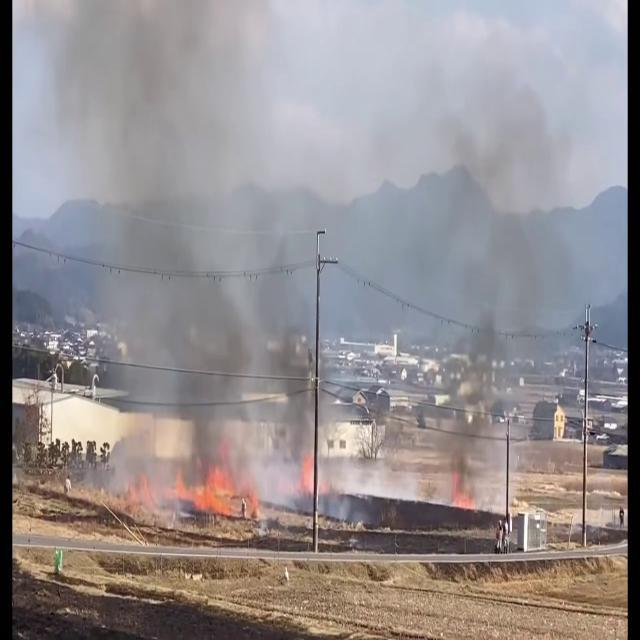Fire: (180, 463, 254, 522)
Smoke: (69, 4, 366, 512), (429, 39, 568, 472)
